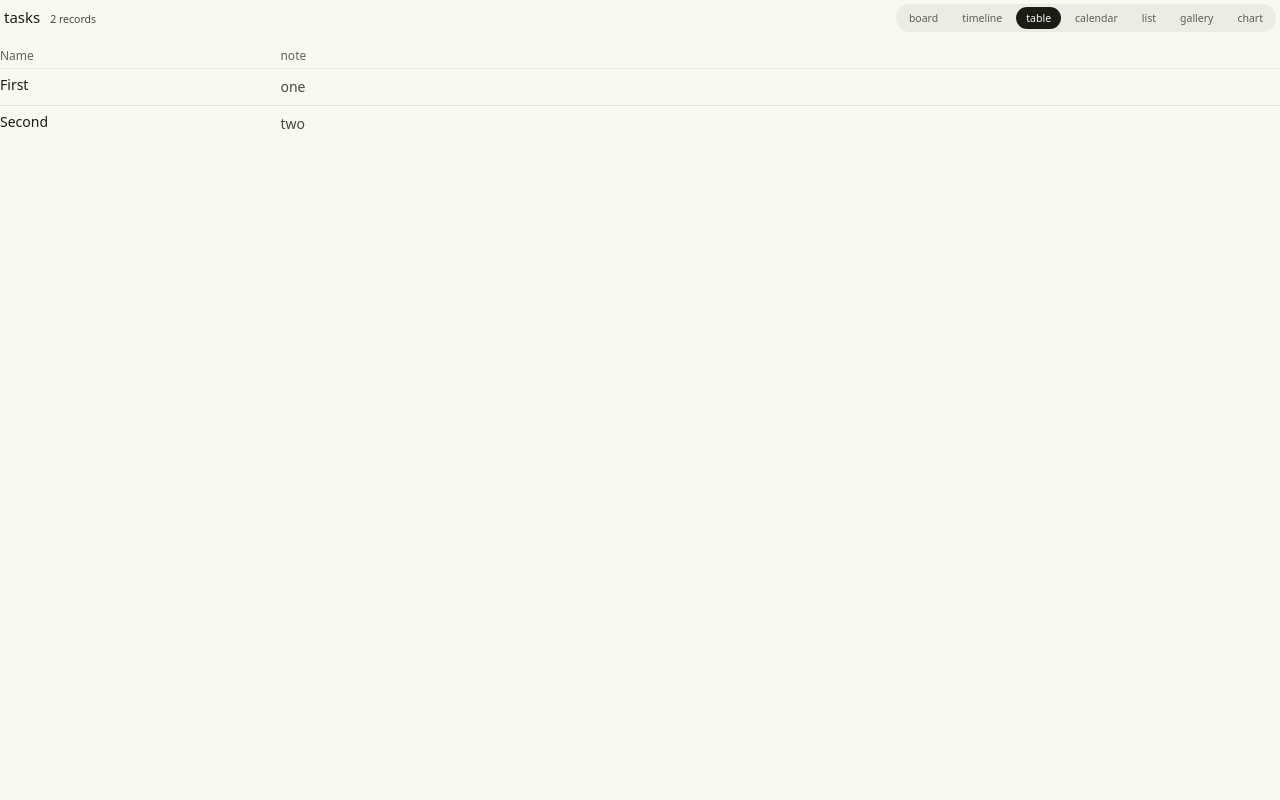
Test: table — a row opens its record in the peek › clicking a different row’s padding swaps the peek
This screenshot has width=1280, height=800.
Click the 1st cell showing "First". click: (140, 87)
box: 0,68 -> 280,106
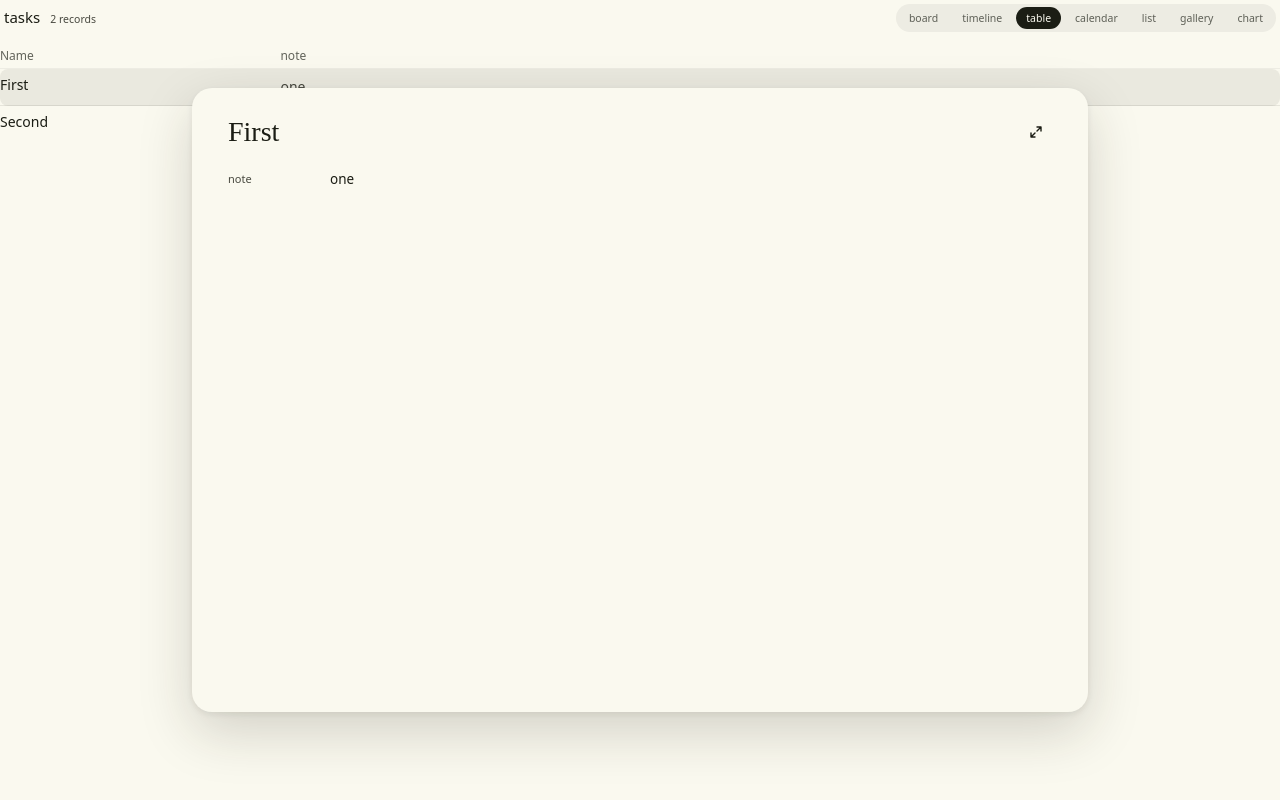
Check: the element named "Record: First" is shown, box 192,88 -> 1088,712
Click the 3rd cell showing "Second". click: (140, 124)
box: 0,106 -> 280,142
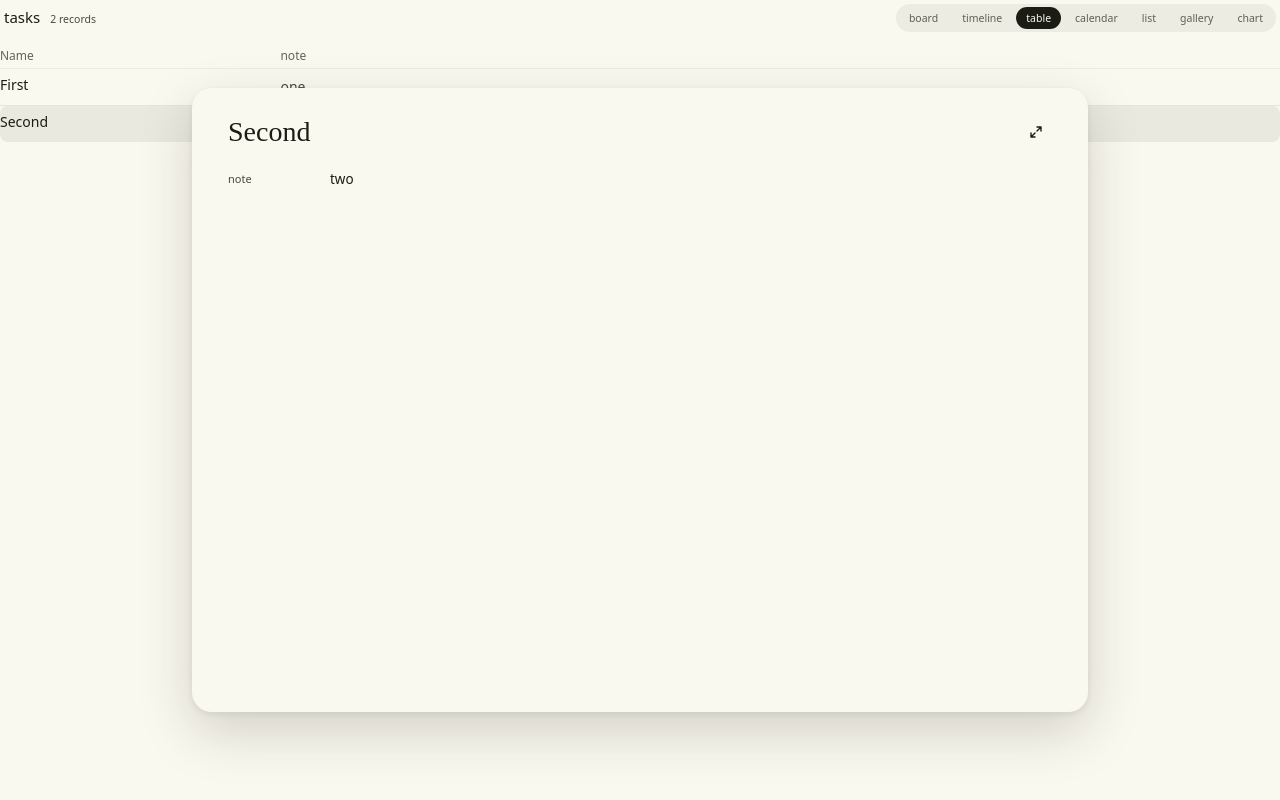
Check: the element named "Record: Second" is shown, box 192,88 -> 1088,712
